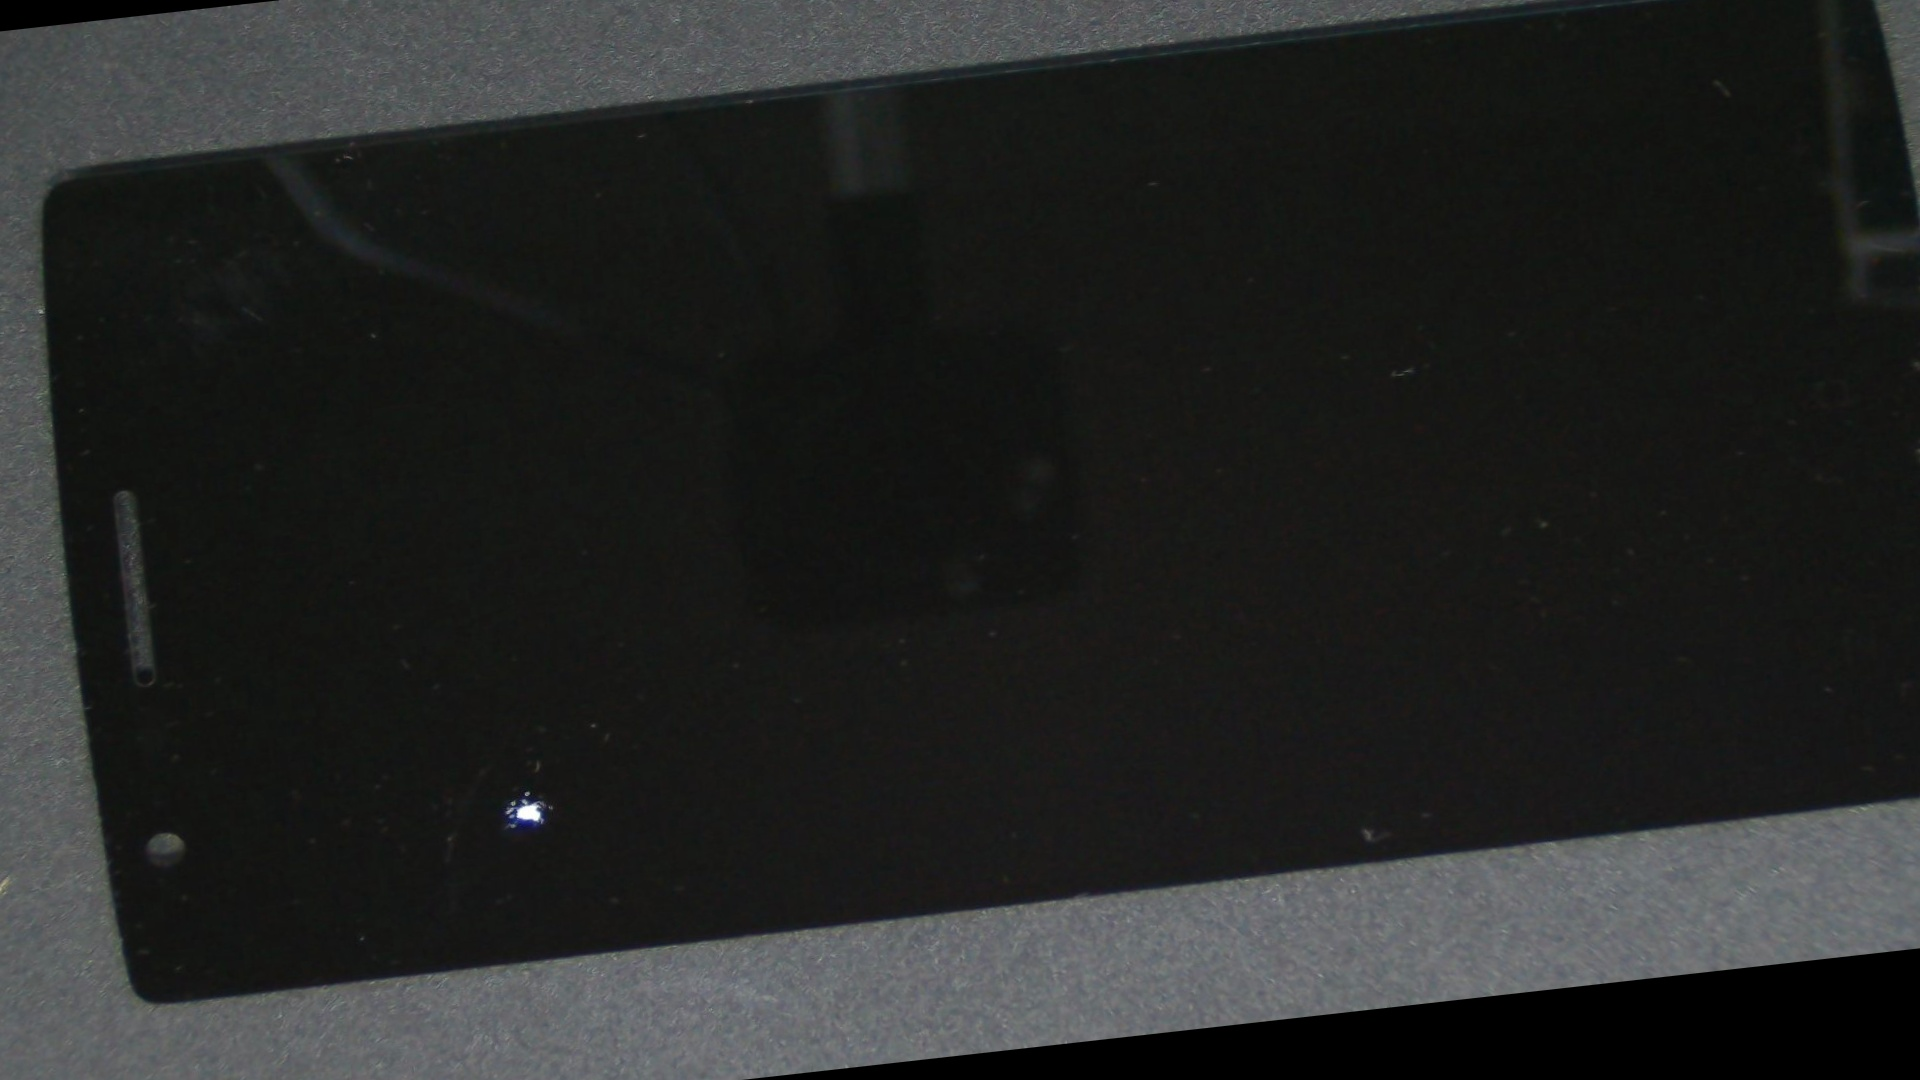oil: (166, 351, 880, 1080)
